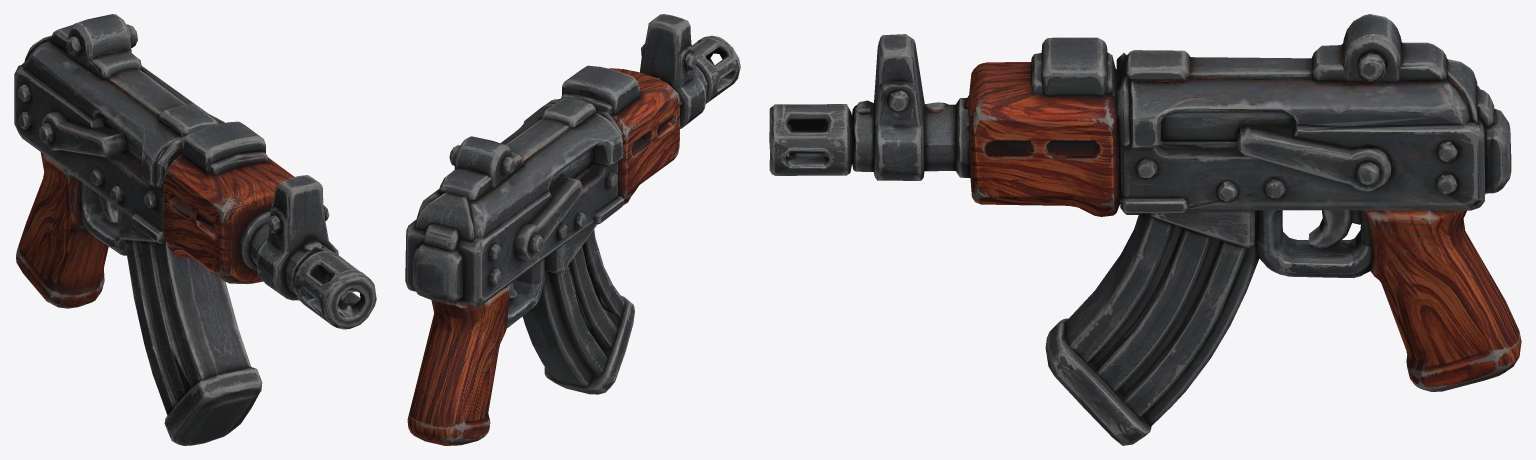
Rendered from gun_drako.glb.
The picture shows the model from 3 angles, left to right: view 1: azimuth 30°, elevation 25°; view 2: azimuth 150°, elevation 25°; view 3: azimuth 270°, elevation 25°; orthographic projection. The views are drawn at different scales.
Size of the model in its own units: 0.167 by 0.4731 by 0.7823.
1 material, 1 textured.
